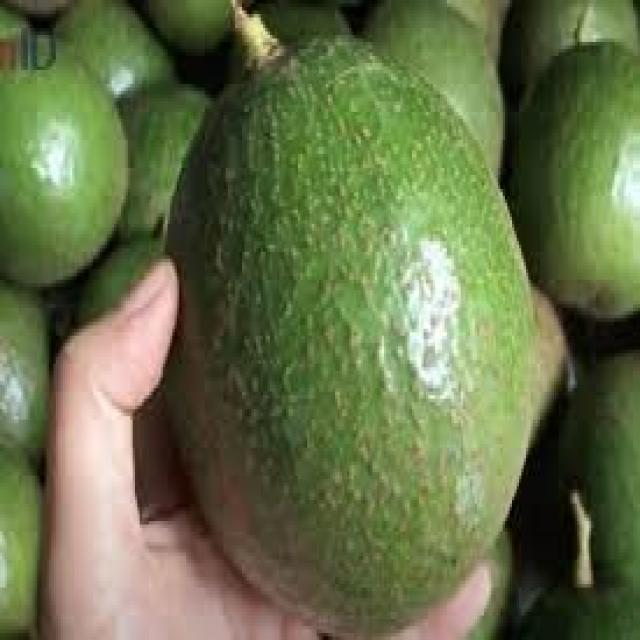Bo: (160, 15, 548, 636)
